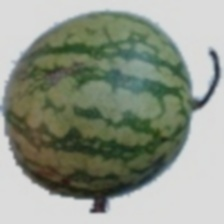watermelon: (37, 0, 224, 193)
